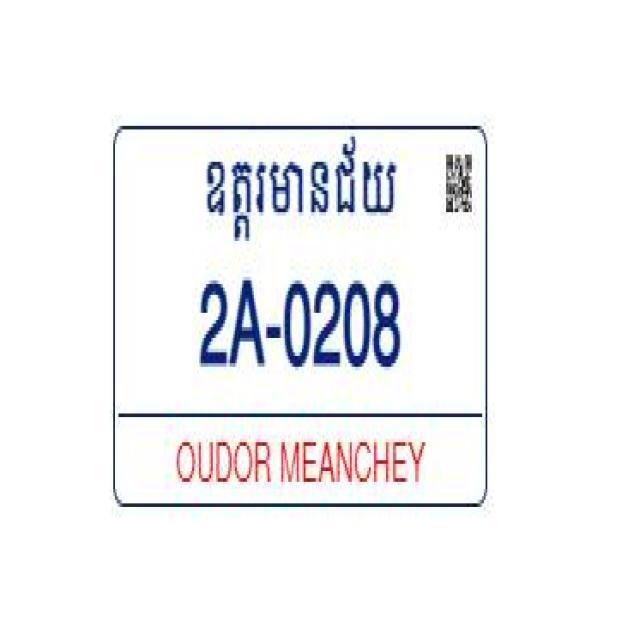Oudor_Meanchey: (202, 133, 398, 248)
